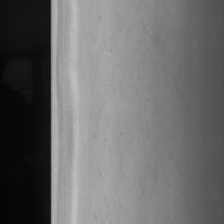silk_spot: (79, 21, 165, 201)
